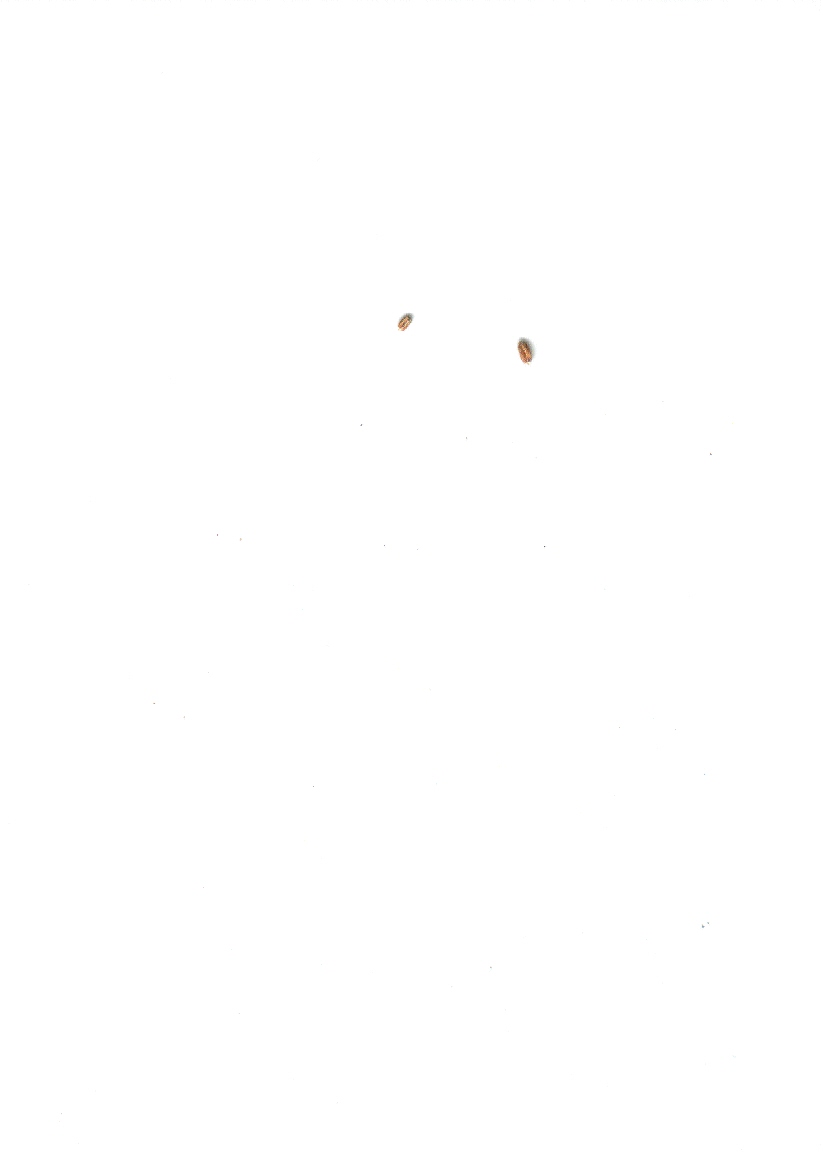grains: (390, 297, 425, 346), (507, 329, 540, 375)
